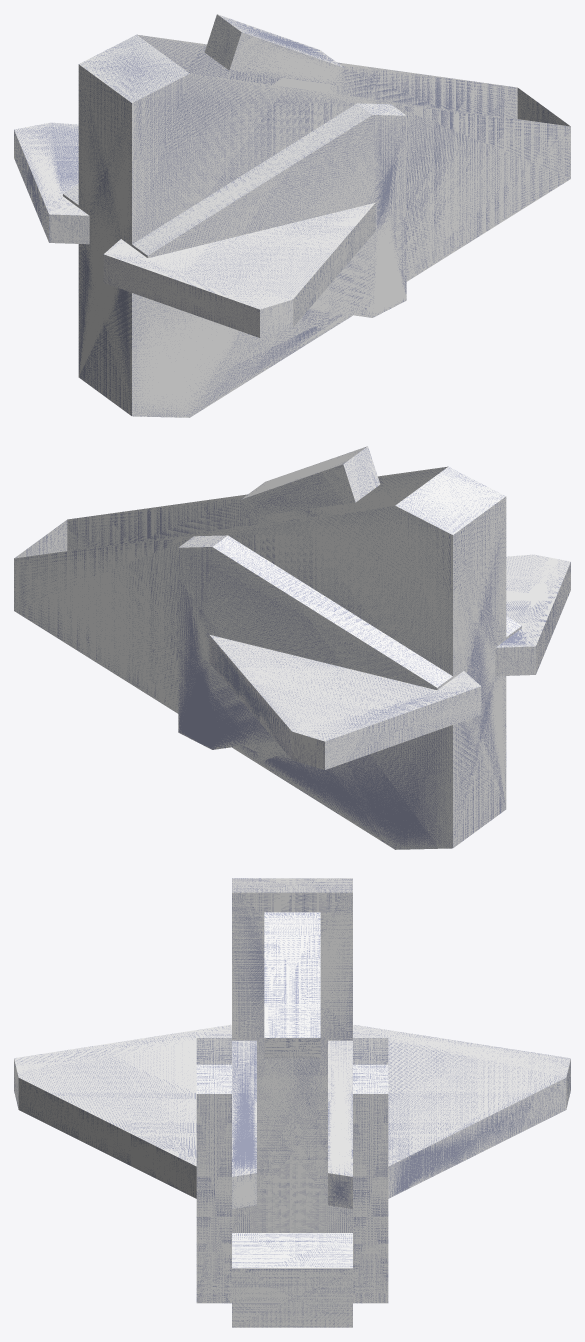
Rendered from SocialSciences_mergedCoreTest_exploded.dae.
3 views of the same model, one above another, from view 1: azimuth 30°, elevation 25°; view 2: azimuth 150°, elevation 25°; view 3: azimuth 270°, elevation 25° (orthographic). The views are drawn at different scales.
Parts seen in each view (by area): view 1: SketchUp (×2); view 2: SketchUp (×2); view 3: SketchUp (×2).
Boxes of the visible parts, x1,y1,x2,y2 form: SketchUp (×2): (14,14,570,417); SketchUp (×2): (14,446,570,849); SketchUp (×2): (14,878,570,1327).
Size of the model in its own units: 151 by 137 by 111.
